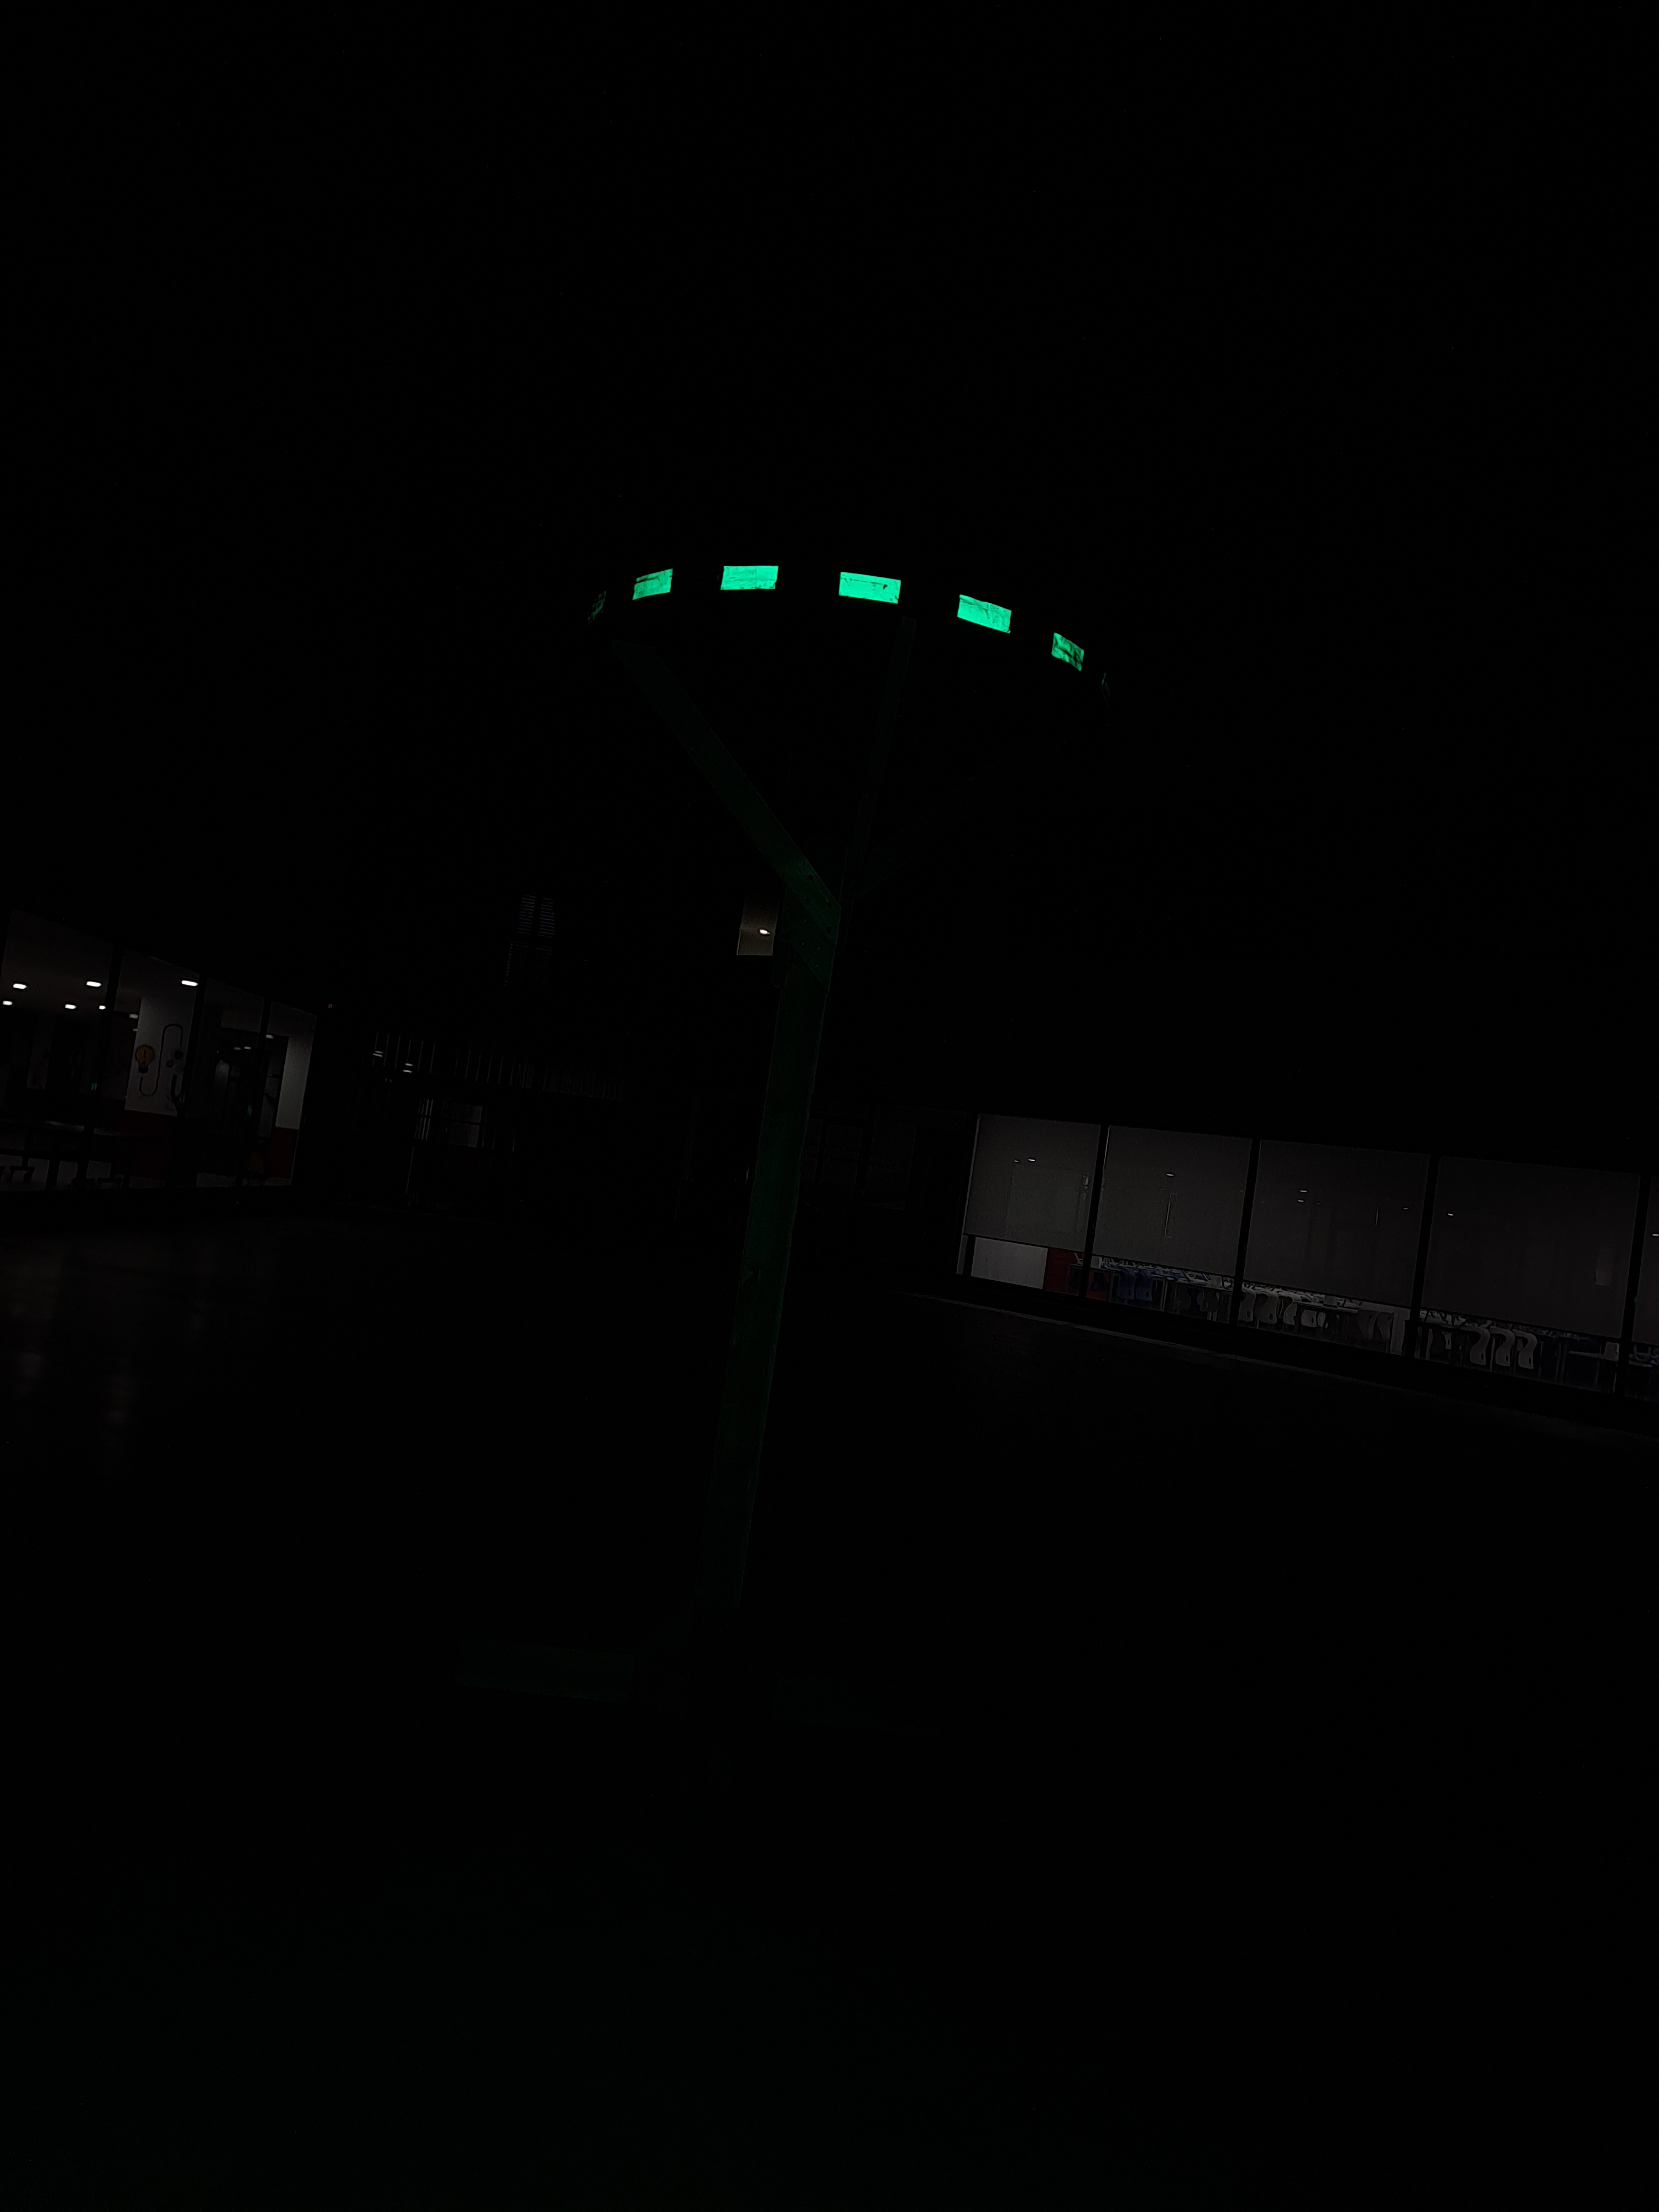hoop: (624, 550, 1089, 681)
